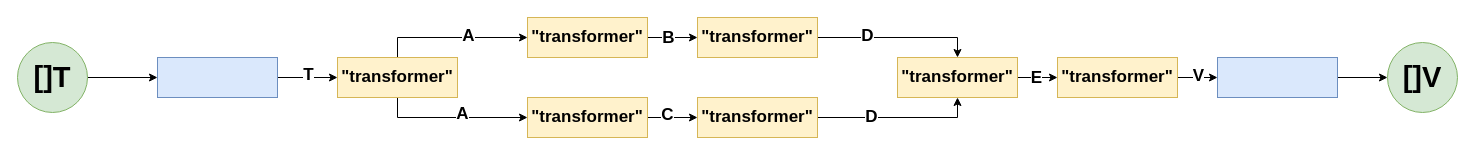
Some shapes in this 1475 by 155 pixel diagram are drawn without their labels. Each missing label, with the centre of its shape:
collector: (x=1277, y=77)
emmiter: (x=217, y=77)
